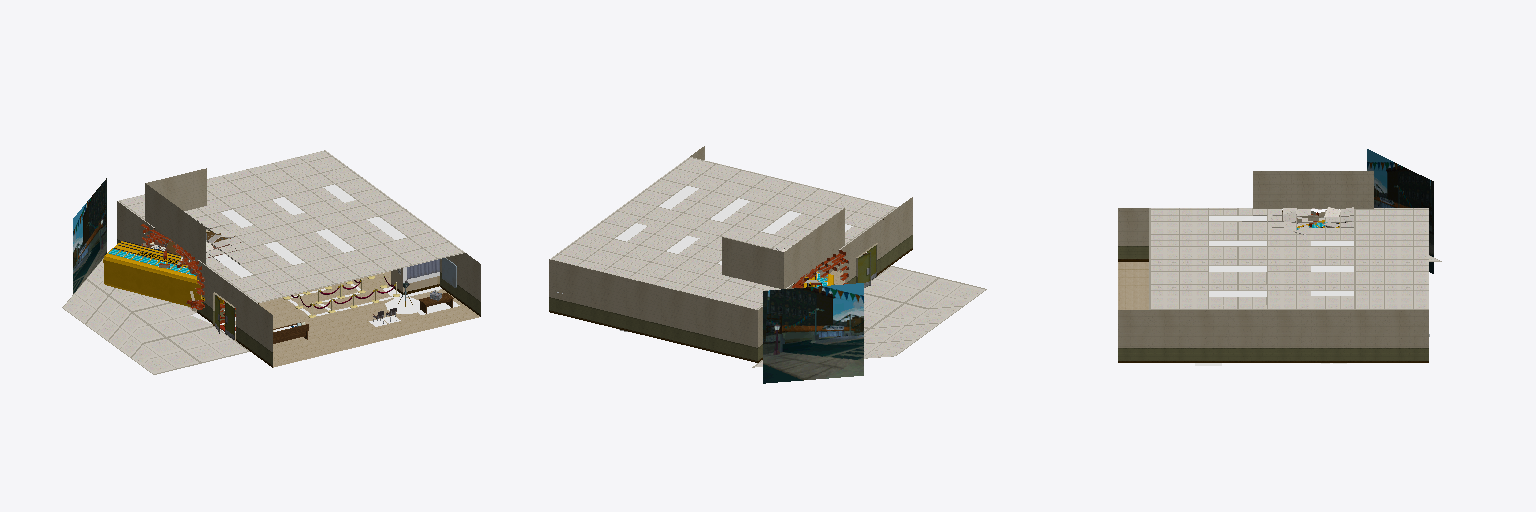
3 renders of one model, left to right at view 1: azimuth 30°, elevation 25°; view 2: azimuth 150°, elevation 25°; view 3: azimuth 270°, elevation 25°, orthographic.
Parts seen in each view (by area): view 1: int_dmv_shadShape22_013, int_dmv_shadShape22_030, int_dmv_trackShape_001, int_dmv_shadShape22_002, int_dmv_shadShape22_007, int_dmv_shadShape22_019, int_dmv_shadShape22_016, int_dmv_shadShape22_009, int_dmv_shadShape22_003, int_dmv_shadShape22_031, int_dmv_shadShape22_029, int_dmv_shadShape22_017; view 2: int_dmv_shadShape22_013, int_dmv_shadShape22_030, int_dmv_shadShape22_002, int_dmv_shadShape22_019, int_dmv_shadShape22_017, int_dmv_shadShape22_003; view 3: int_dmv_shadShape22_013, int_dmv_shadShape22_030, int_dmv_shadShape22_002, int_dmv_shadShape22_019, int_dmv_trackShape_001.
Part boxes in pixels (left/top/right/bottom): int_dmv_shadShape22_013: left=62, top=150, right=464, bottom=374; int_dmv_shadShape22_030: left=117, top=168, right=480, bottom=367; int_dmv_trackShape_001: left=196, top=271, right=479, bottom=367; int_dmv_shadShape22_002: left=73, top=178, right=106, bottom=293; int_dmv_shadShape22_007: left=103, top=260, right=223, bottom=304; int_dmv_shadShape22_019: left=214, top=184, right=406, bottom=277; int_dmv_shadShape22_016: left=191, top=267, right=459, bottom=332; int_dmv_shadShape22_009: left=103, top=241, right=198, bottom=306; int_dmv_shadShape22_003: left=141, top=224, right=235, bottom=323; int_dmv_shadShape22_031: left=273, top=293, right=453, bottom=343; int_dmv_shadShape22_029: left=283, top=273, right=399, bottom=317; int_dmv_shadShape22_017: left=151, top=240, right=438, bottom=339; int_dmv_shadShape22_013: left=550, top=157, right=986, bottom=367; int_dmv_shadShape22_030: left=549, top=146, right=912, bottom=362; int_dmv_shadShape22_002: left=763, top=283, right=863, bottom=383; int_dmv_shadShape22_019: left=615, top=186, right=852, bottom=264; int_dmv_shadShape22_017: left=858, top=245, right=876, bottom=287; int_dmv_shadShape22_003: left=792, top=250, right=848, bottom=287; int_dmv_shadShape22_013: left=1149, top=207, right=1441, bottom=309; int_dmv_shadShape22_030: left=1118, top=171, right=1428, bottom=362; int_dmv_shadShape22_002: left=1367, top=149, right=1433, bottom=273; int_dmv_shadShape22_019: left=1209, top=216, right=1353, bottom=296; int_dmv_trackShape_001: left=1118, top=262, right=1148, bottom=309.
Bounding box in the file's own units: 25.4 × 8.11 × 22.11.
Materials: 34 (30 with a texture image).